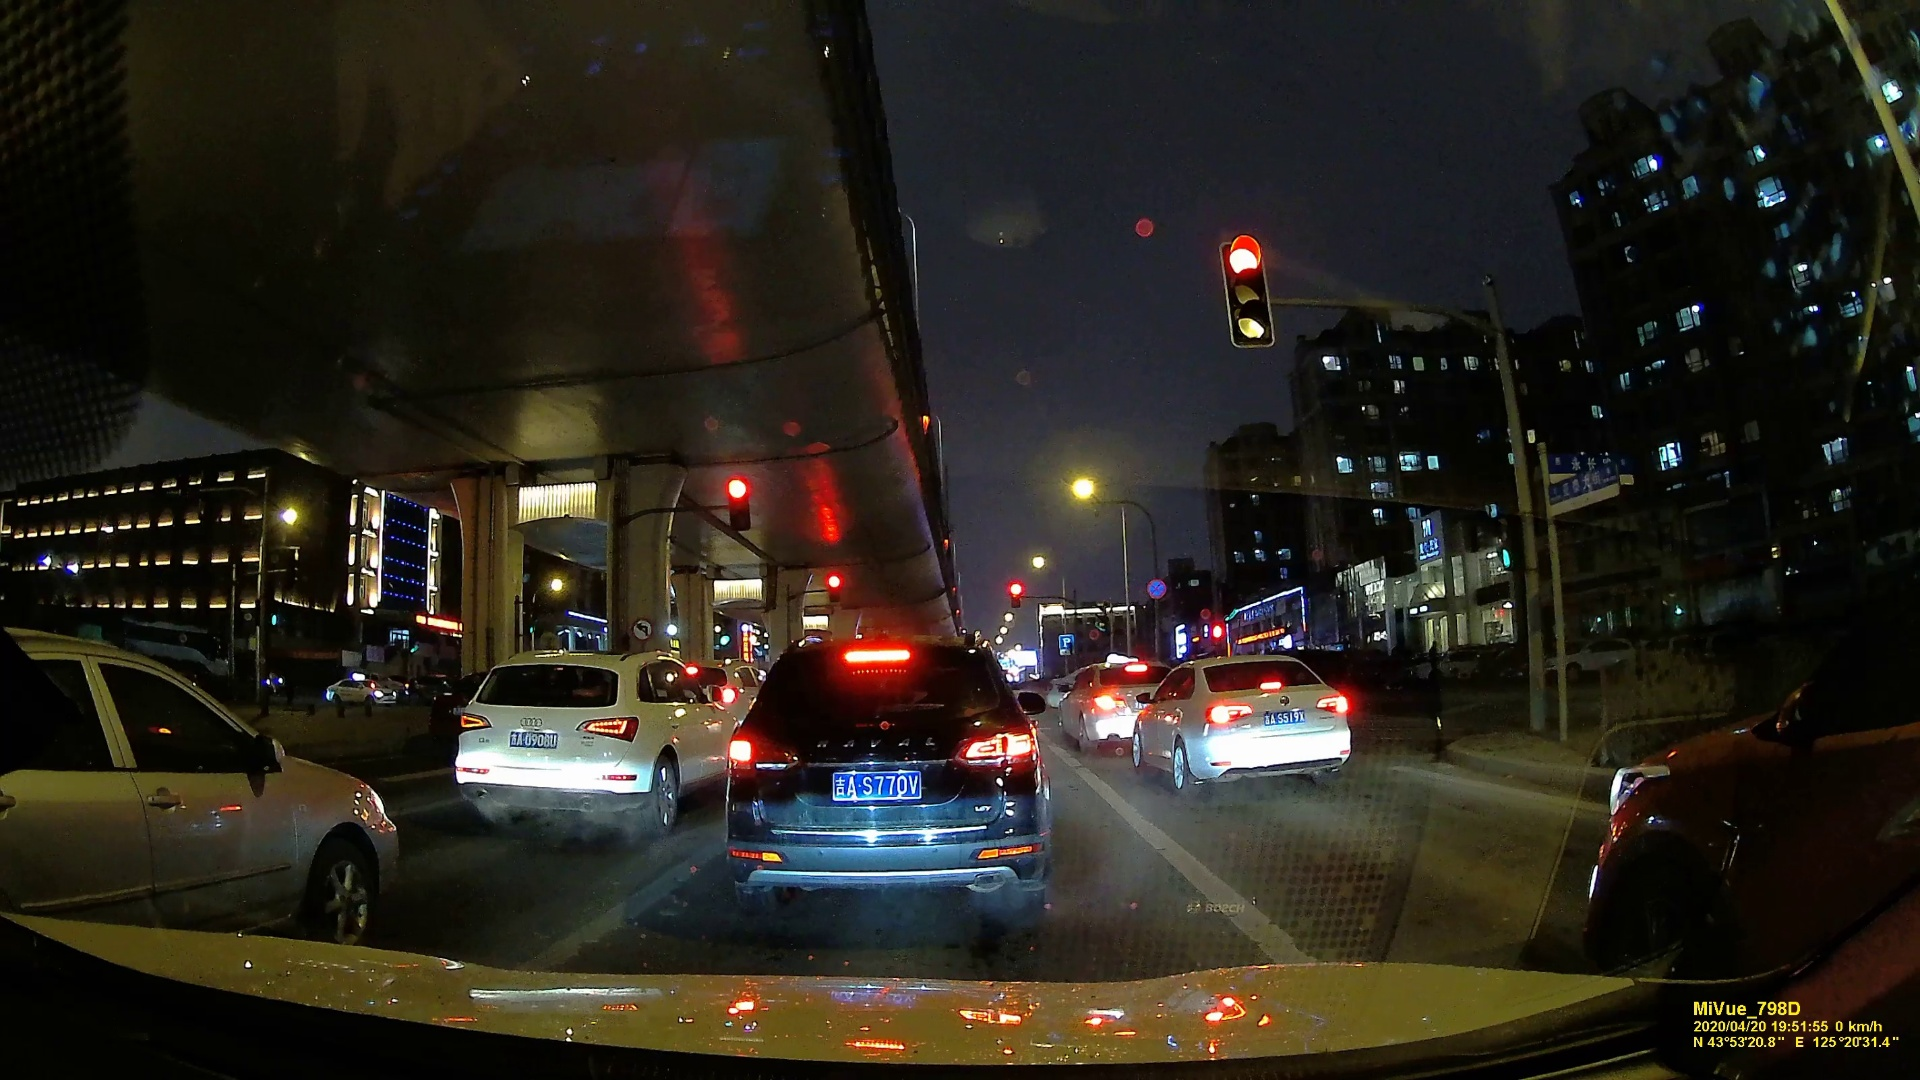traffic_sign: (1222, 243, 1266, 349), (1542, 463, 1623, 506), (1484, 496, 1520, 570), (723, 473, 749, 525), (626, 615, 654, 642), (823, 574, 843, 603), (1149, 578, 1168, 605), (1007, 582, 1023, 613)
vehicle: (1, 632, 396, 953), (723, 636, 1044, 936), (448, 651, 725, 837), (1135, 651, 1361, 796), (1058, 659, 1156, 757), (316, 673, 389, 705)
